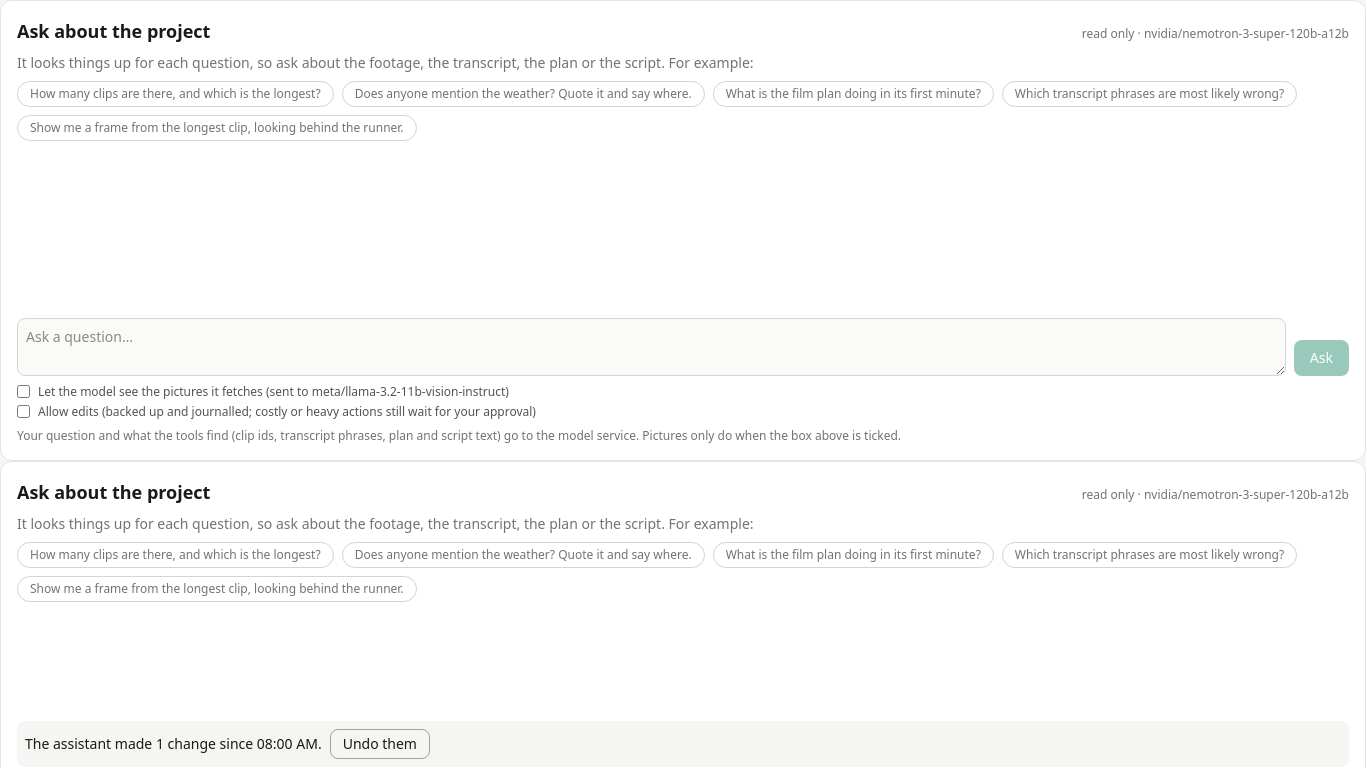
Test: AskPage › shows no undo when there is nothing to undo, and an undo that fails says why
This screenshot has width=1366, height=768.
Check: the text box named "Your question" is shown, box [17,318,1286,376]
Click the button "Undo them" at (380, 744), box [330,729,430,759]
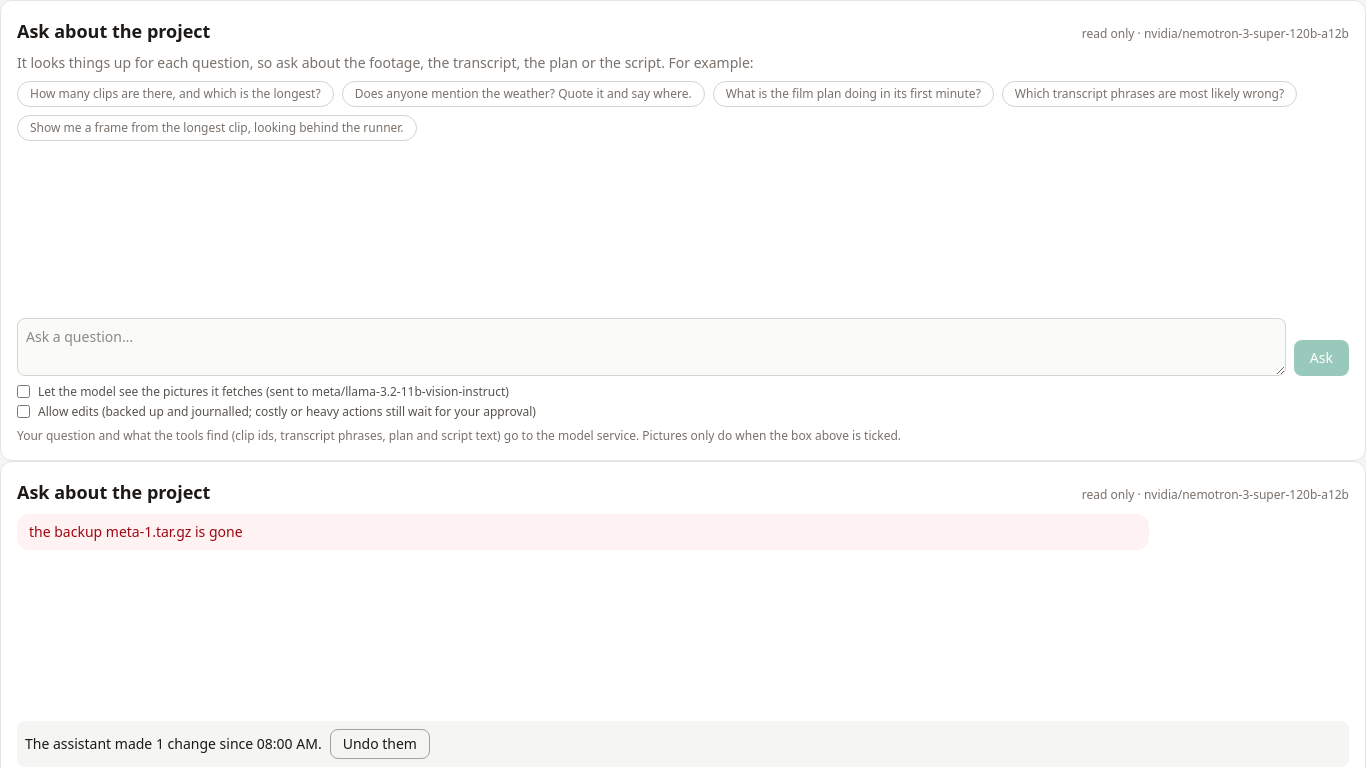
Check: the text "the backup meta-1.tar.gz is gone" is shown, box [29,522,243,541]
